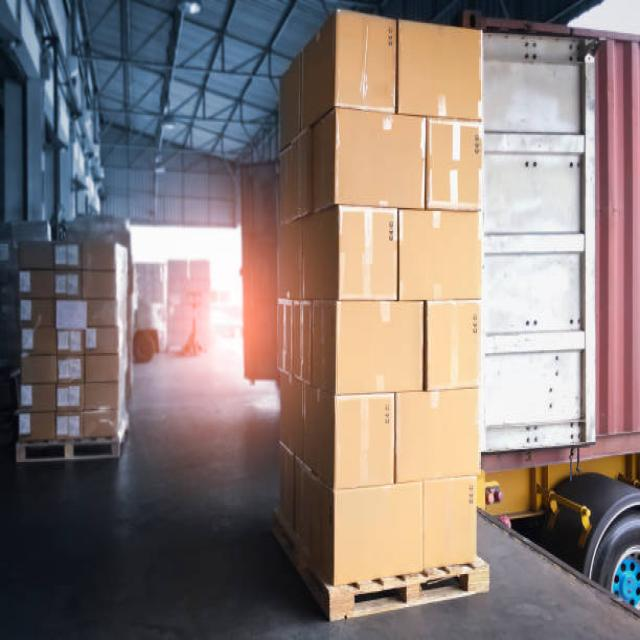Wooden-Pallets: (269, 508, 493, 624), (4, 435, 121, 475)
